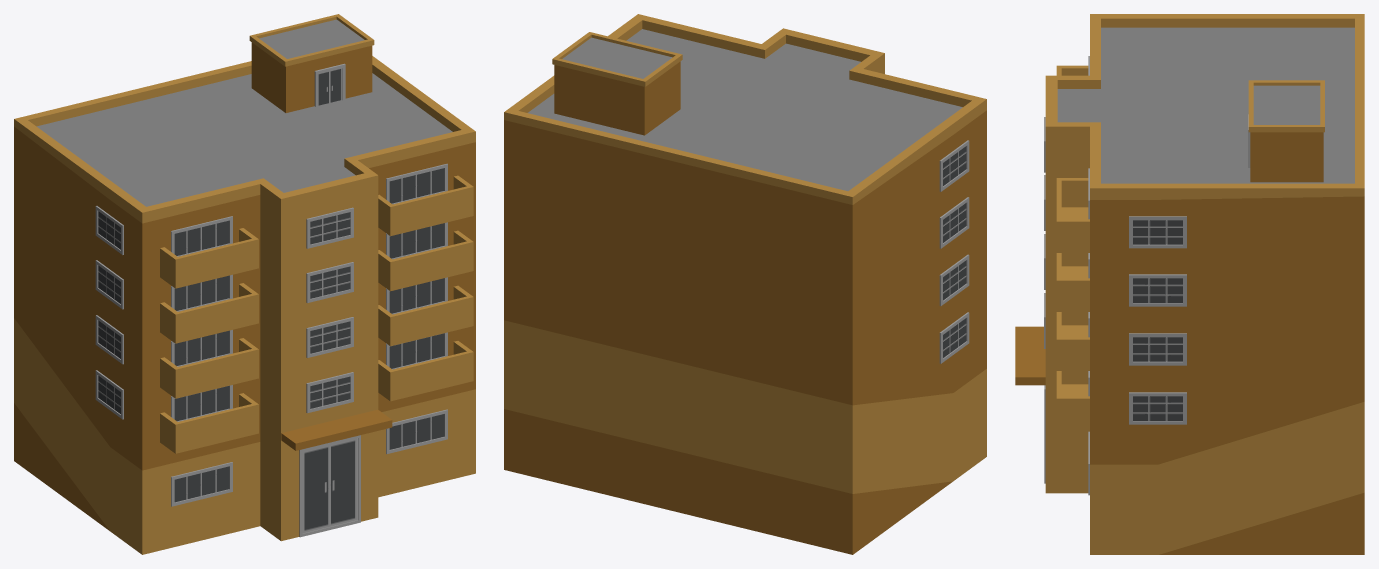
The model's file is spb-building02.glb.
The picture shows the model from 3 angles, left to right: view 1: azimuth 30°, elevation 25°; view 2: azimuth 150°, elevation 25°; view 3: azimuth 270°, elevation 25°; orthographic projection. The views are drawn at different scales.
Parts seen in each view (by area): view 1: SPB_Building02; view 2: SPB_Building02; view 3: SPB_Building02.
Boxes of the visible parts, x1,y1,x2,y2 form: SPB_Building02: (14, 14, 475, 554); SPB_Building02: (504, 14, 986, 554); SPB_Building02: (1015, 14, 1364, 554).
Bounding box in the file's own units: 15.39 × 16.88 × 12.93.
Materials: 1 (1 with a texture image).
